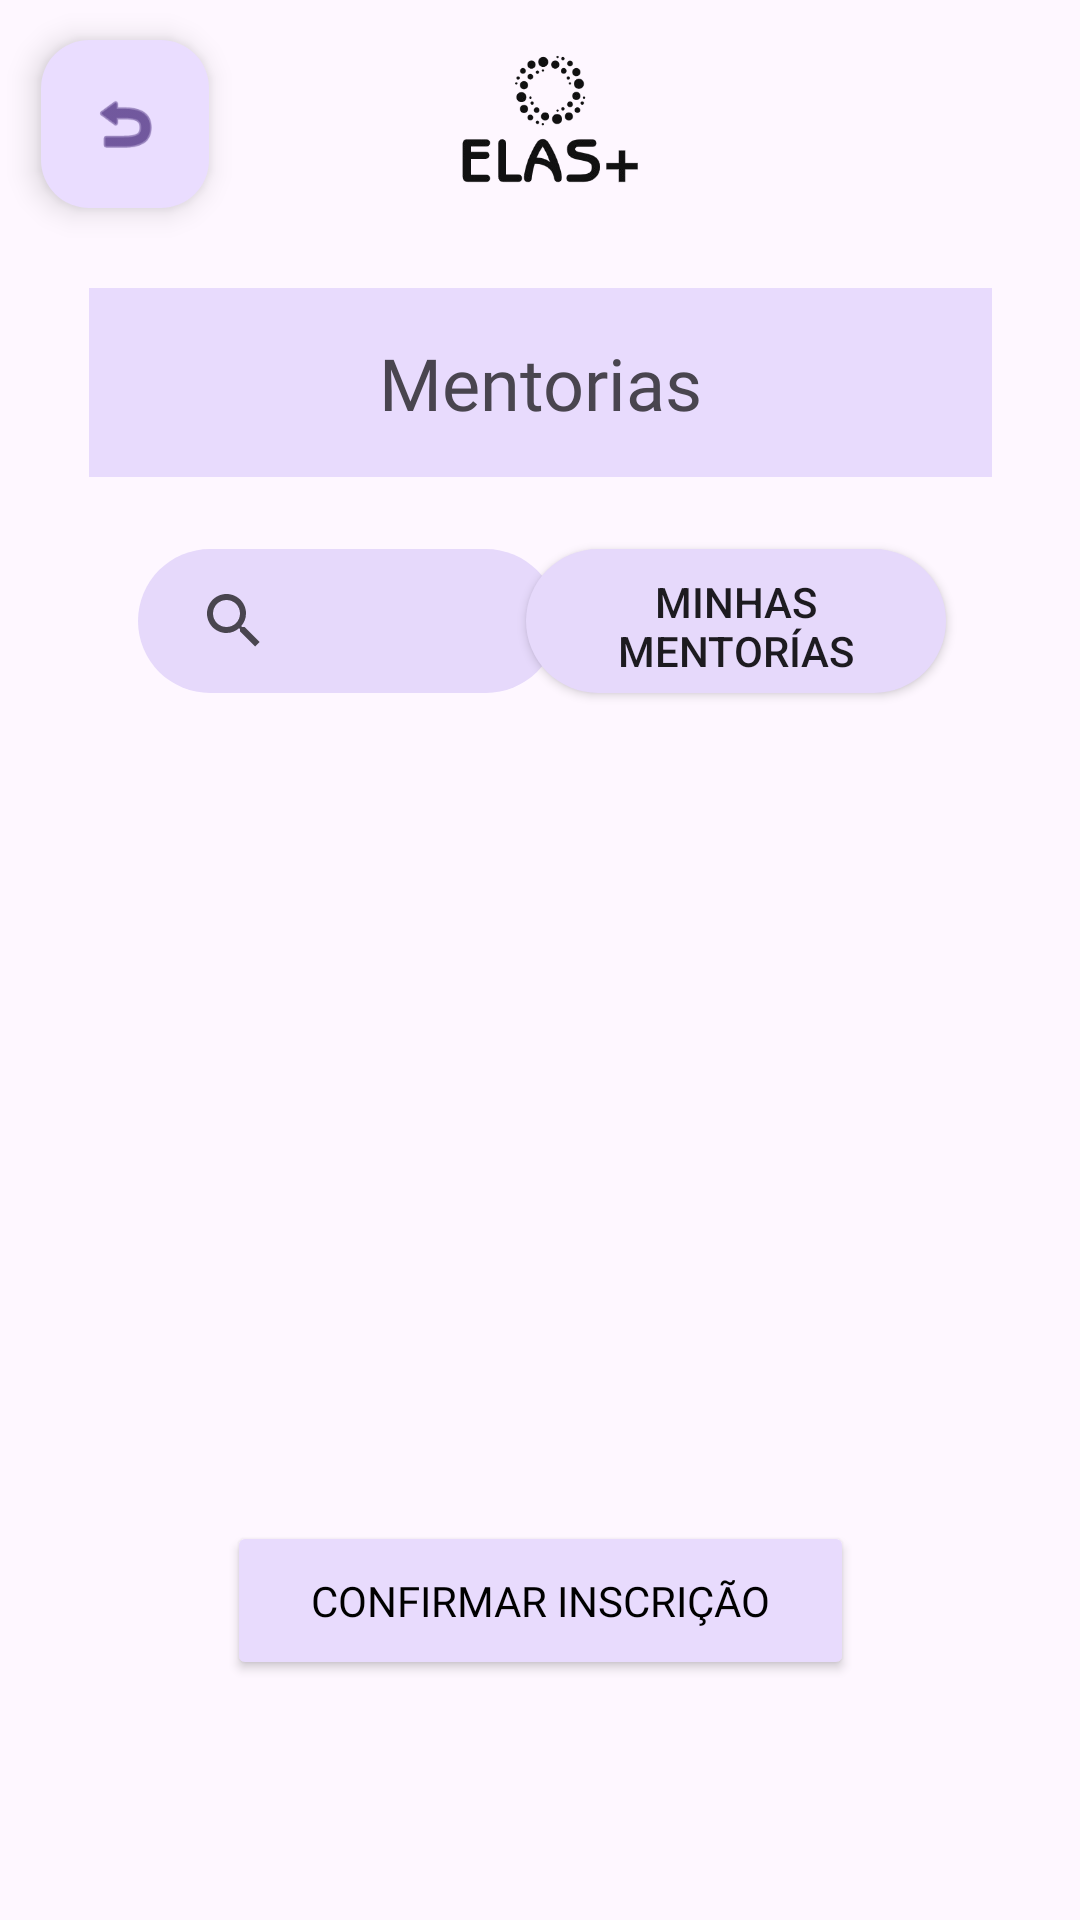

Icons on this 1080 x 1920 Android screen, each with its box as (x1, y1, x2, y2):
revert: (100, 101, 152, 148)
